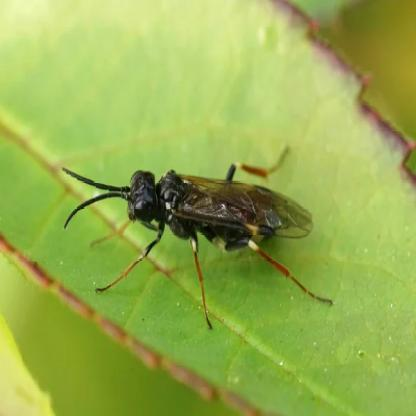sawfly: (55, 135, 335, 321)
